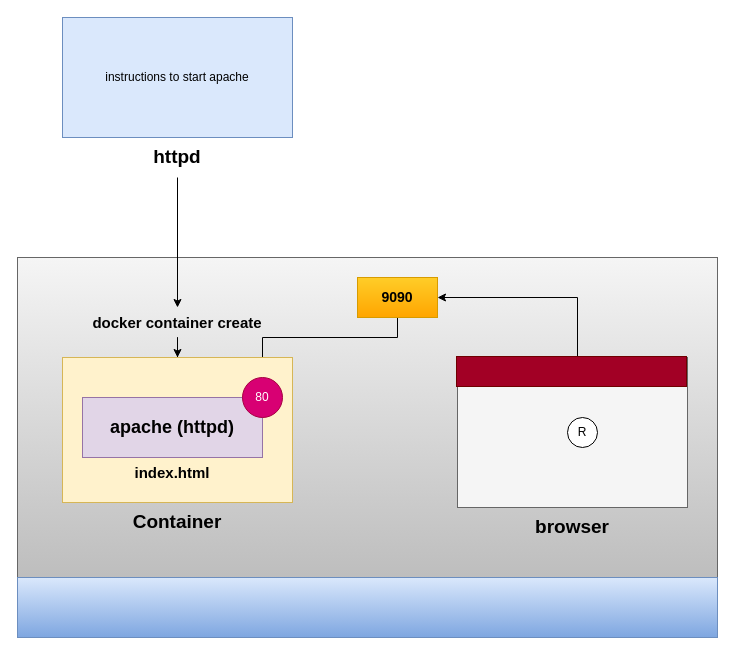
Some shapes in this 735 by 655 pixel diagram are drawn without their labels. The centre of each missing label's shape, as x and y in pixels:
http://localhost:9090: point (571, 371)
Linux: point (367, 607)
